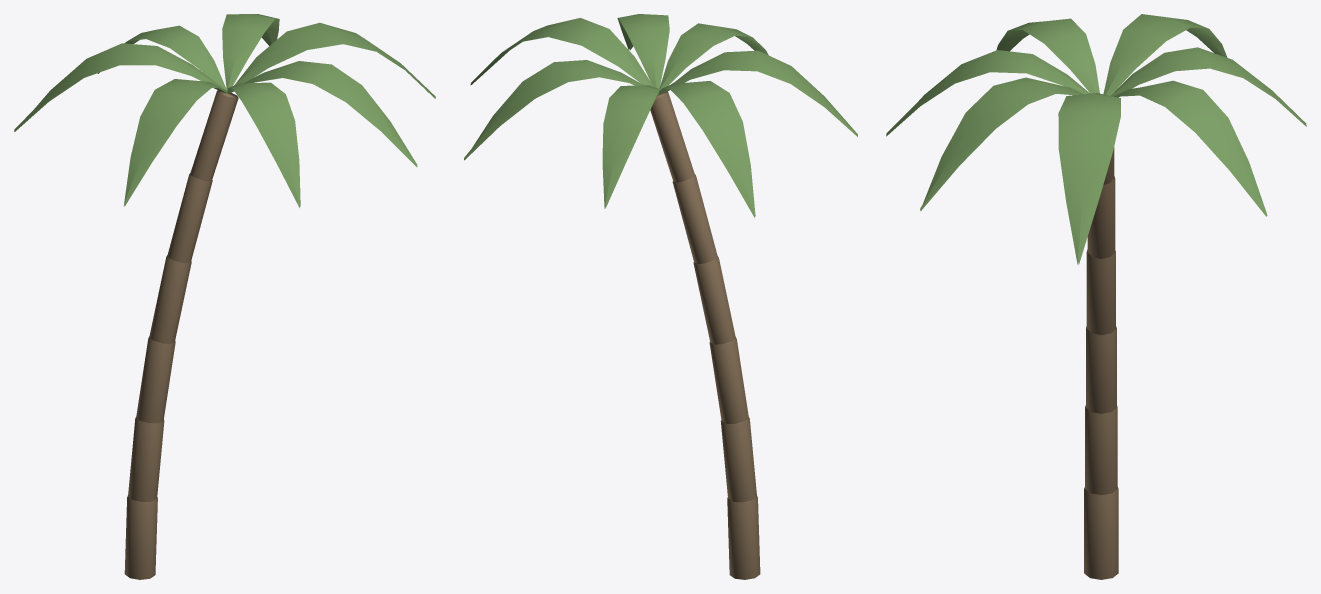
File: palm_tree_variant_02_lod1.glb
The picture shows the model from 3 angles, left to right: view 1: azimuth 30°, elevation 25°; view 2: azimuth 150°, elevation 25°; view 3: azimuth 270°, elevation 25°; orthographic projection. The views are drawn at different scales.
Visible parts, largest first — view 1: static_leaf_oak, static_wood; view 2: static_leaf_oak, static_wood; view 3: static_leaf_oak, static_wood.
Part boxes in pixels (x1,y1,x2,y2): static_leaf_oak: (14, 14, 435, 207); static_wood: (124, 90, 238, 579); static_leaf_oak: (464, 14, 857, 217); static_wood: (650, 91, 760, 579); static_leaf_oak: (886, 14, 1306, 264); static_wood: (1084, 147, 1118, 579).
Size of the model in its own units: 4.69 by 6.37 by 4.3.
